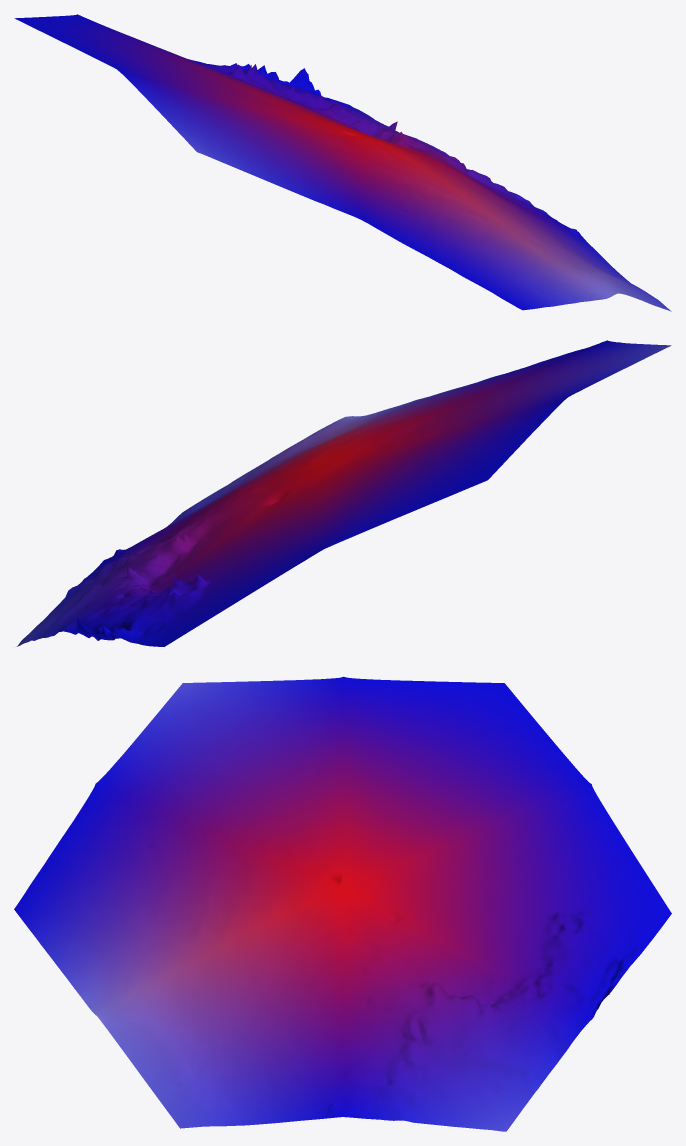
Rendered from Hex_02.fbx.
3 views of the same model, one above another, from view 1: azimuth 30°, elevation 25°; view 2: azimuth 150°, elevation 25°; view 3: azimuth 270°, elevation 25° (orthographic). The views are drawn at different scales.
Parts seen in each view (by area): view 1: Hex_02; view 2: Hex_02; view 3: Hex_02.
Part boxes in pixels (bbox=[...]): Hex_02: bbox=[14, 14, 671, 311]; Hex_02: bbox=[16, 340, 671, 646]; Hex_02: bbox=[14, 676, 671, 1131].
Size of the model in its own units: 383 by 226 by 522.
